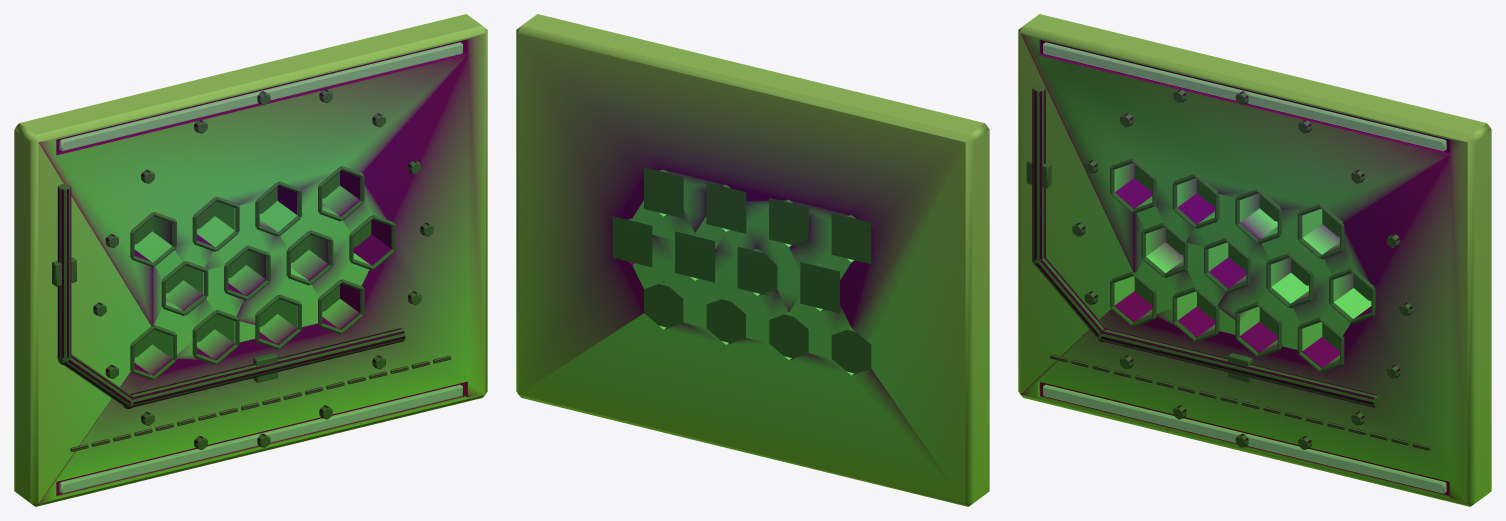
Rendered from RCLModule_bastion_siege_mech_cryo_glacier_camo_sponsons.fbx.
3 renders of one model, left to right at view 1: azimuth 30°, elevation 25°; view 2: azimuth 150°, elevation 25°; view 3: azimuth 330°, elevation 25°, orthographic.
Visible parts, largest first — view 1: RCLModule_bastion_siege_mech_cryo_glacier_camo_sponsons_Batc (×3); view 2: RCLModule_bastion_siege_mech_cryo_glacier_camo_sponsons_Batc (×2); view 3: RCLModule_bastion_siege_mech_cryo_glacier_camo_sponsons_Batc (×3).
Part boxes in pixels (bbox=[...]): RCLModule_bastion_siege_mech_cryo_glacier_camo_sponsons_Batc (×3): bbox=[14, 14, 487, 506]; RCLModule_bastion_siege_mech_cryo_glacier_camo_sponsons_Batc (×2): bbox=[516, 14, 989, 506]; RCLModule_bastion_siege_mech_cryo_glacier_camo_sponsons_Batc (×3): bbox=[1018, 14, 1491, 506].
Bounding box in the file's own units: 36 × 28 × 4.03.
